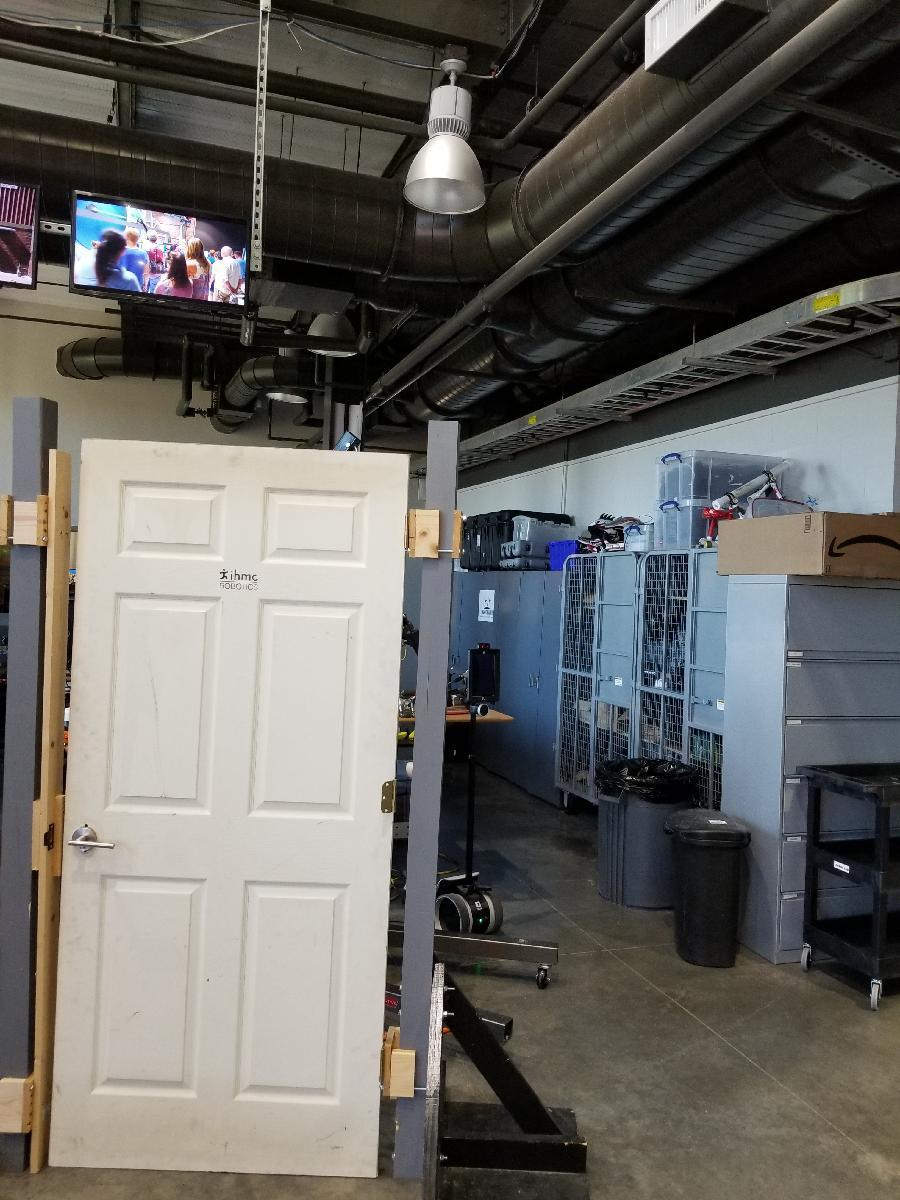door: (75, 438, 377, 1181)
handle: (68, 823, 116, 857)
